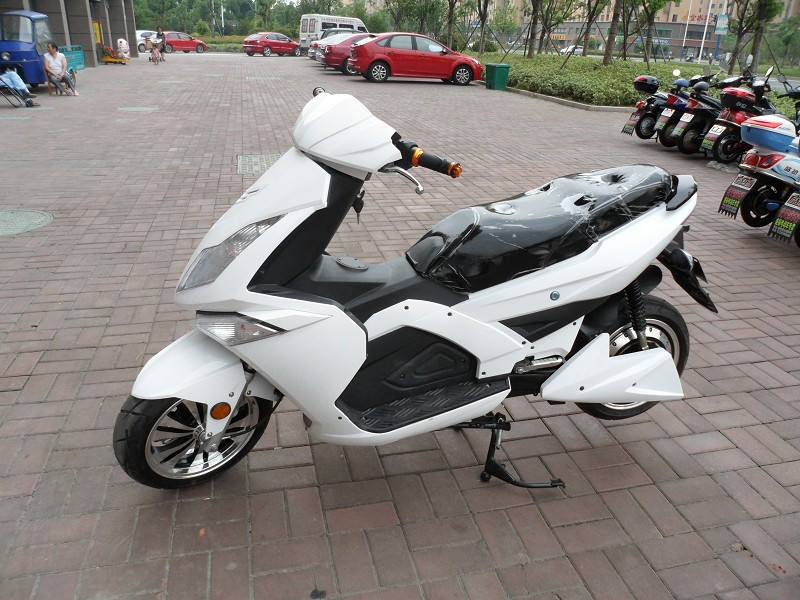电动车: (104, 80, 719, 517)
